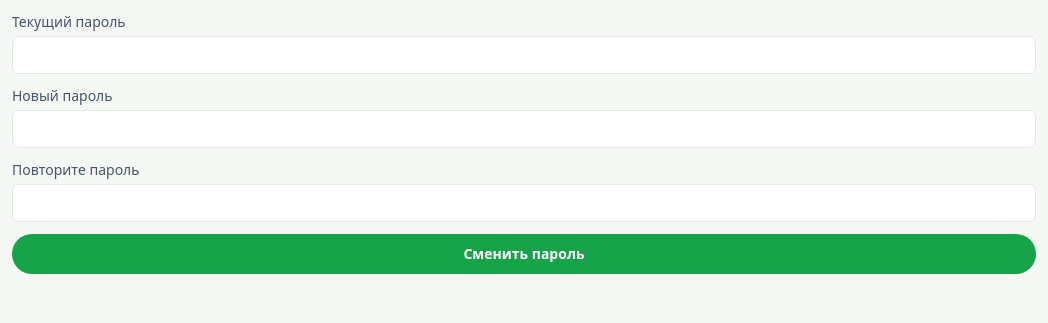
Test: ChangePasswordForm › reports a wrong current password
Type "wrong password!!" into the password field named "current" at (524, 55), box [12,36,1036,74]
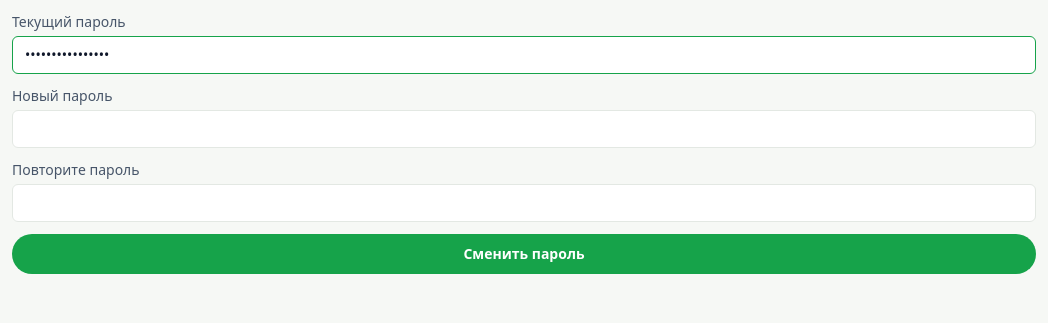
Type "brand new passphrase" into the password field named "next" at (524, 129), box [12,110,1036,148]
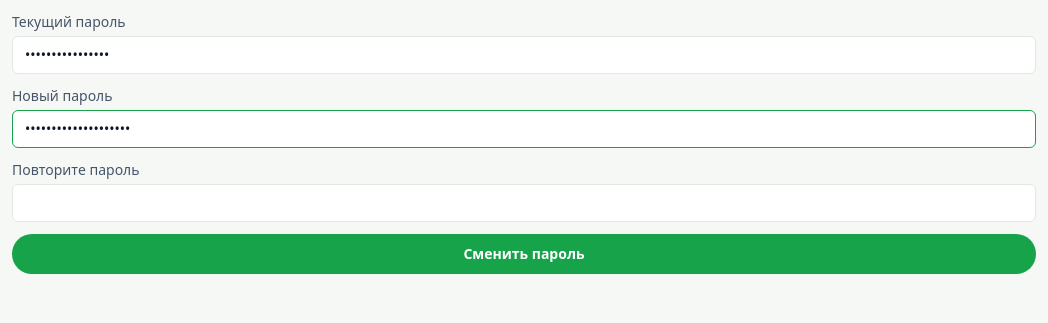
Type "brand new passphrase" into the password field named "repeat" at (524, 203), box [12,184,1036,222]
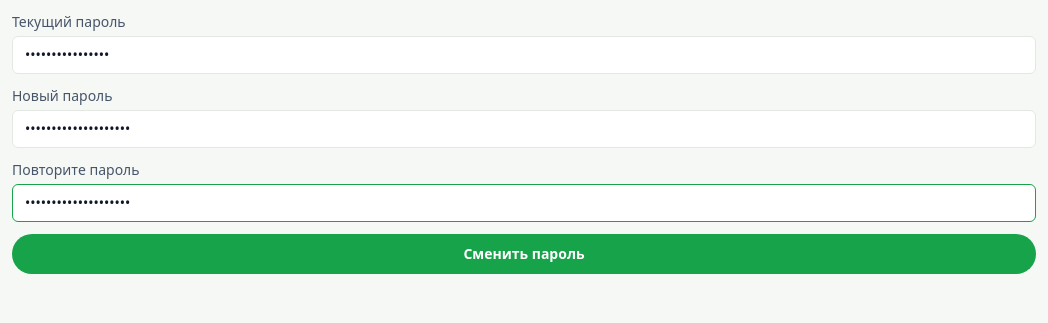
Click the button "Сменить пароль" at (524, 254), box [12,234,1036,274]
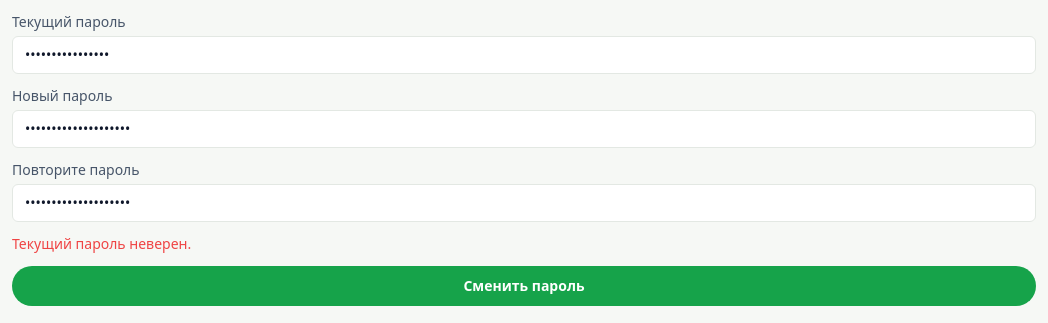
Expected: the message shows "Текущий пароль неверен", [12,234,191,253]
